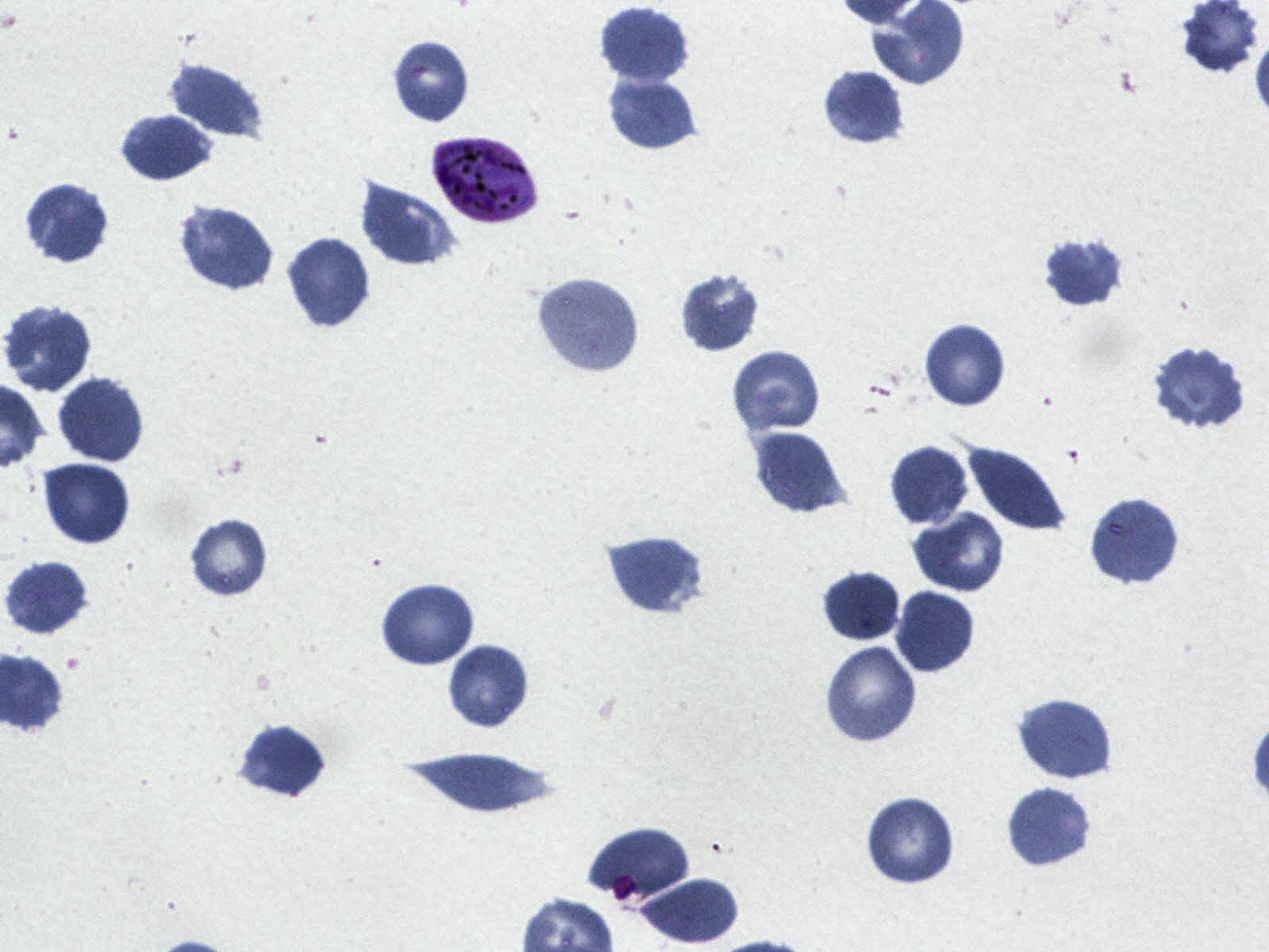Infected: (435, 138, 538, 224)
Uninfected: (536, 275, 641, 375), (825, 643, 920, 746), (966, 444, 1064, 535), (910, 509, 1009, 596), (358, 181, 458, 267), (380, 582, 477, 670), (1089, 495, 1180, 588), (286, 233, 372, 331), (179, 204, 274, 292), (588, 827, 692, 907), (866, 795, 957, 886), (55, 374, 146, 465), (406, 755, 550, 812), (731, 348, 822, 438), (1017, 697, 1112, 781), (603, 535, 702, 615), (167, 60, 262, 141), (41, 460, 131, 545), (752, 429, 842, 514), (599, 4, 691, 86), (634, 875, 740, 946), (925, 321, 1008, 411), (1155, 346, 1246, 428), (446, 643, 530, 731), (4, 307, 90, 392), (1007, 785, 1093, 869), (895, 589, 976, 676), (608, 74, 698, 152), (888, 443, 970, 528), (25, 182, 109, 264), (679, 269, 761, 353), (4, 559, 87, 638), (393, 39, 470, 124), (190, 517, 268, 600), (241, 723, 325, 800), (118, 115, 214, 182), (822, 69, 906, 145), (1042, 235, 1125, 311), (823, 568, 903, 644)
